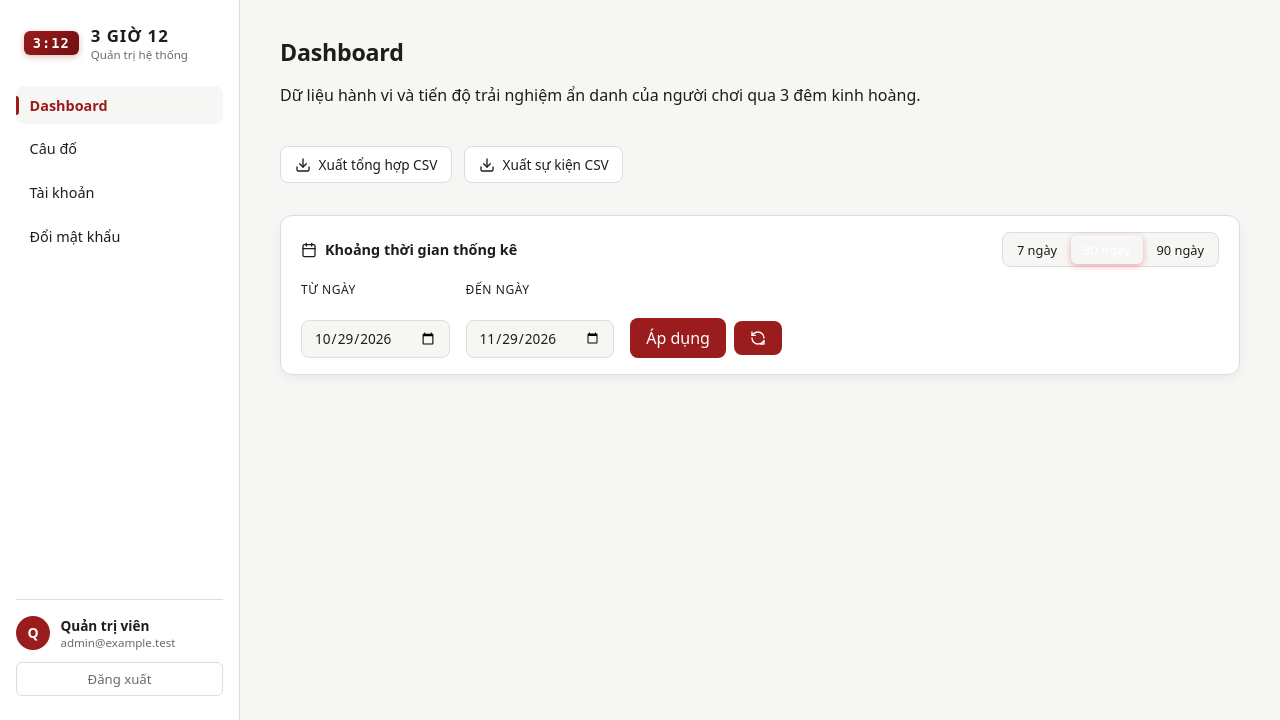
an existing session opens the dashboard and logging out returns to the form
The width and height of the screenshot is (1280, 720).
Check: the heading "Dashboard" is shown, box [280,36,404,68]
Click the button "Đăng xuất": (120, 679) [16,662,223,696]
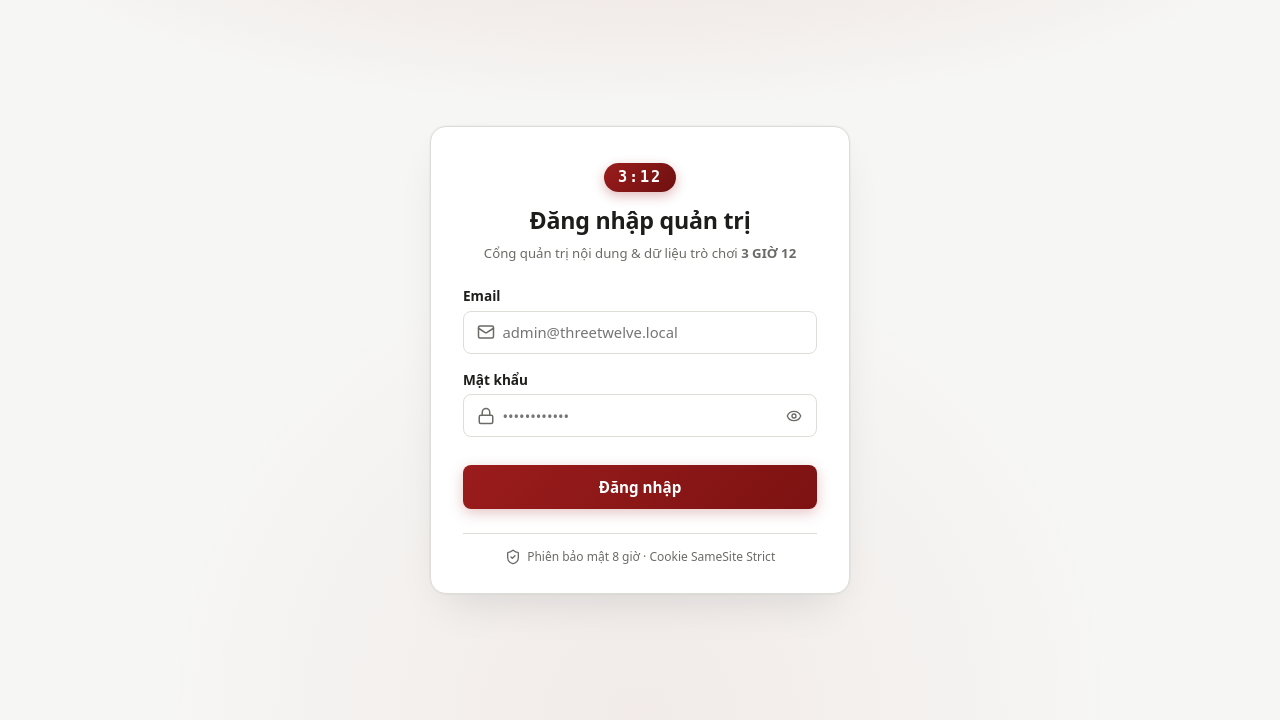
Check: the heading "Đăng nhập quản trị" is shown, box [530,204,750,236]
